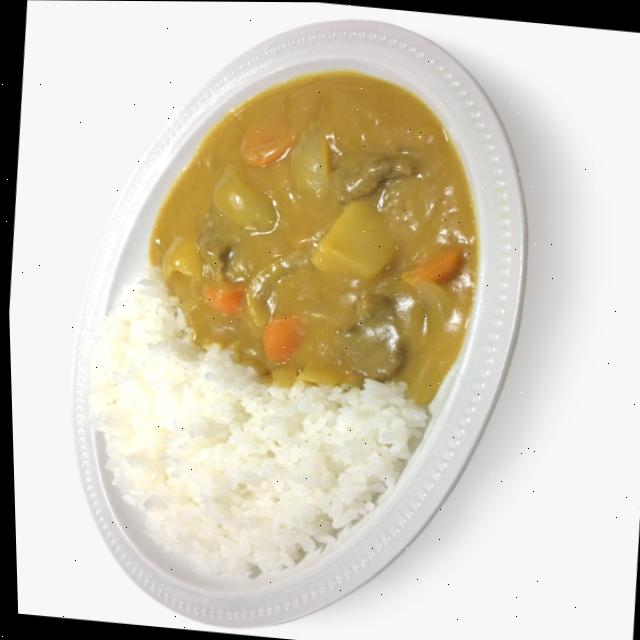Wet: (71, 46, 505, 598)
